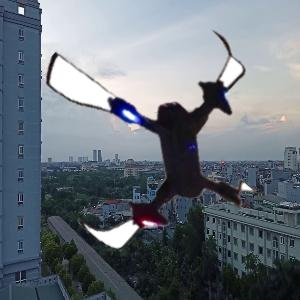drone: (25, 10, 278, 263)
